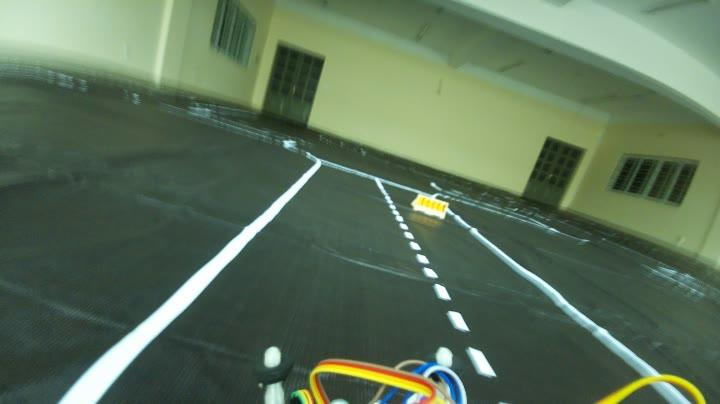roadblock: (408, 188, 454, 226)
